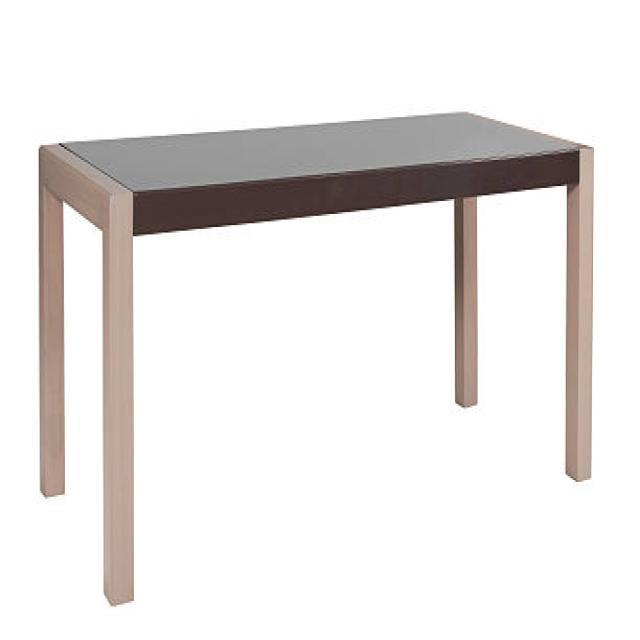table: (38, 108, 594, 605)
